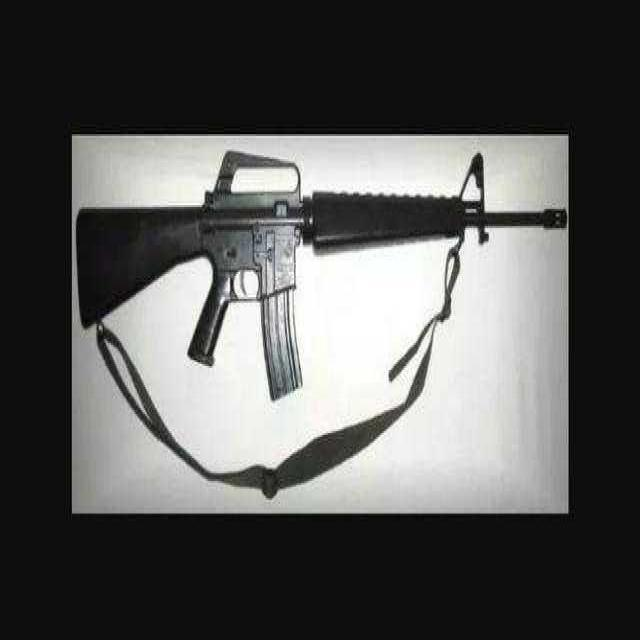weapon: (76, 138, 566, 378)
